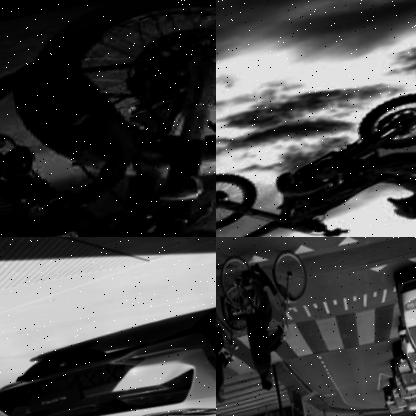bike: (216, 89, 416, 237)
car: (0, 273, 216, 416), (395, 272, 416, 360), (404, 348, 416, 377)
